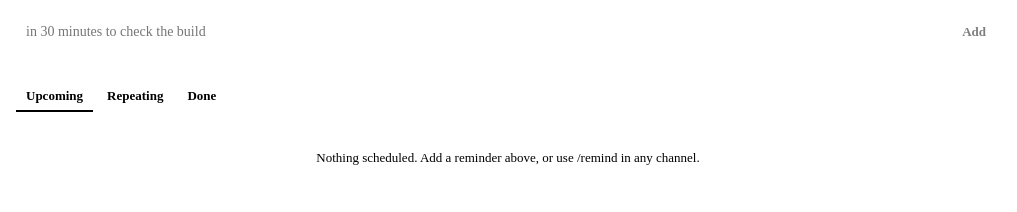
Test case: RemindersSidebar › quick add › reports a refusal from the server
The image size is (1017, 212).
Expected: the text "Nothing scheduled" is shown, left=316, top=150, right=700, bottom=165
Type "in 1 second to blink" into the field named "Remind me" at (478, 32), box left=16, top=16, right=940, bottom=48
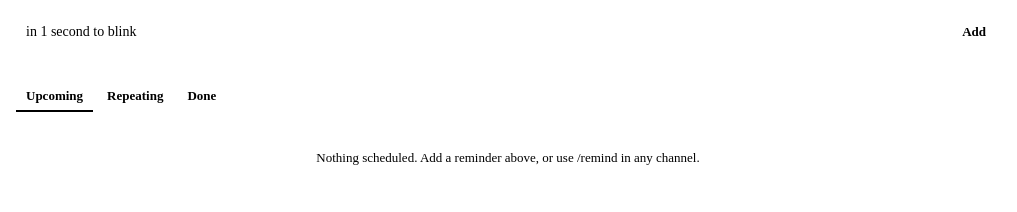
Click the button "Add" at (974, 32), box left=948, top=16, right=1000, bottom=48
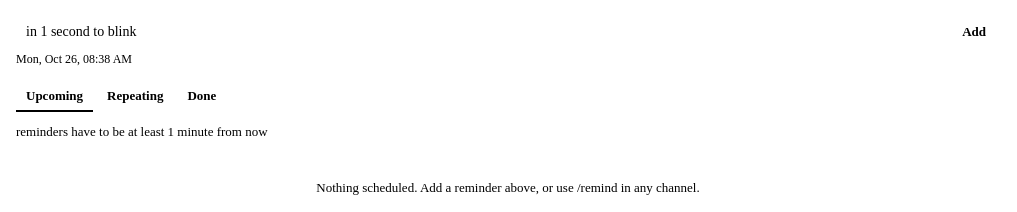
Result: the message shows "at least 1 minute" at left=16, top=124, right=268, bottom=139
